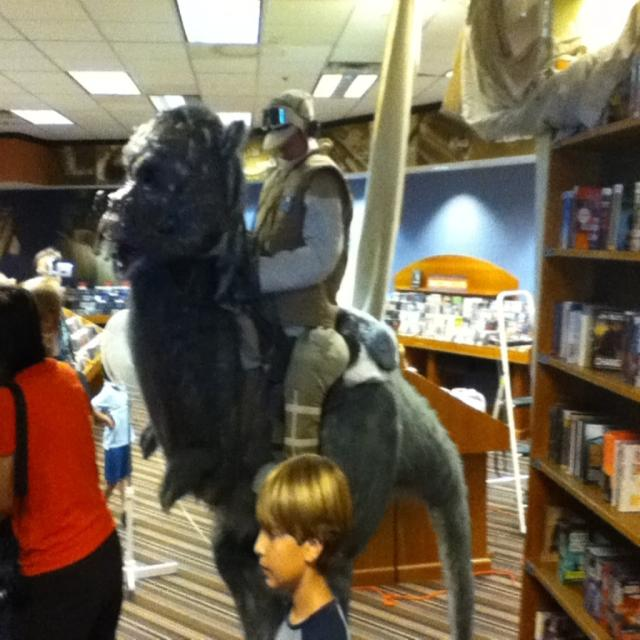Book: (550, 404, 639, 516), (550, 295, 639, 387), (558, 188, 639, 250), (618, 442, 639, 511)
